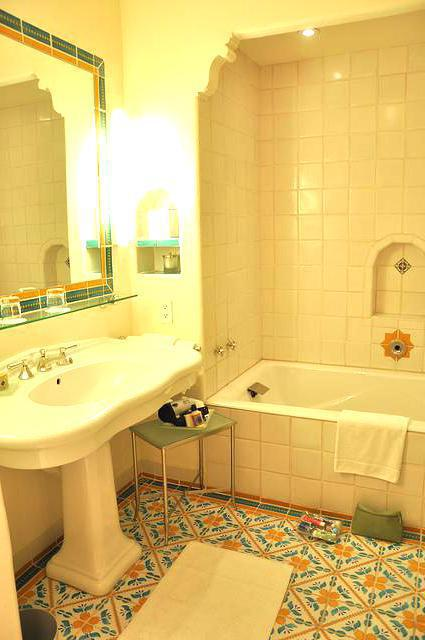Lavamanos: (0, 330, 199, 470)
